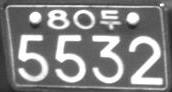0: (72, 8, 96, 30)
2: (127, 34, 163, 85)
3: (91, 34, 124, 84)
5: (54, 33, 87, 83), (17, 33, 49, 82)
8: (46, 8, 70, 30)
두: (100, 9, 121, 30)
